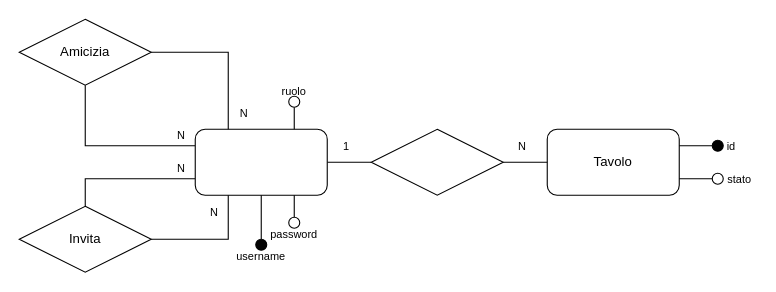
This 776x292 diagram has some shape labels left out. The shapes that lost their labels are listed below. From the top down, each one's box as (x1, y1, x2, y2) in pixels, then its label:
(194, 128, 327, 195): Utente
(370, 128, 503, 195): Partecipa
